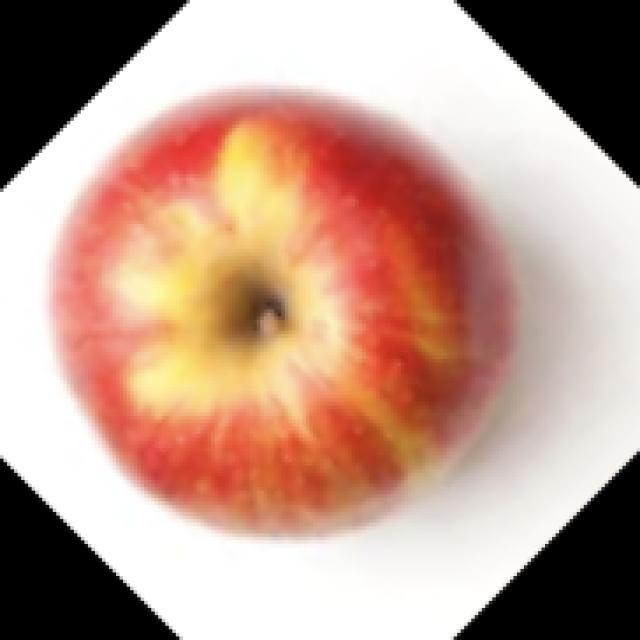Fresh Apple: (42, 85, 525, 545)
